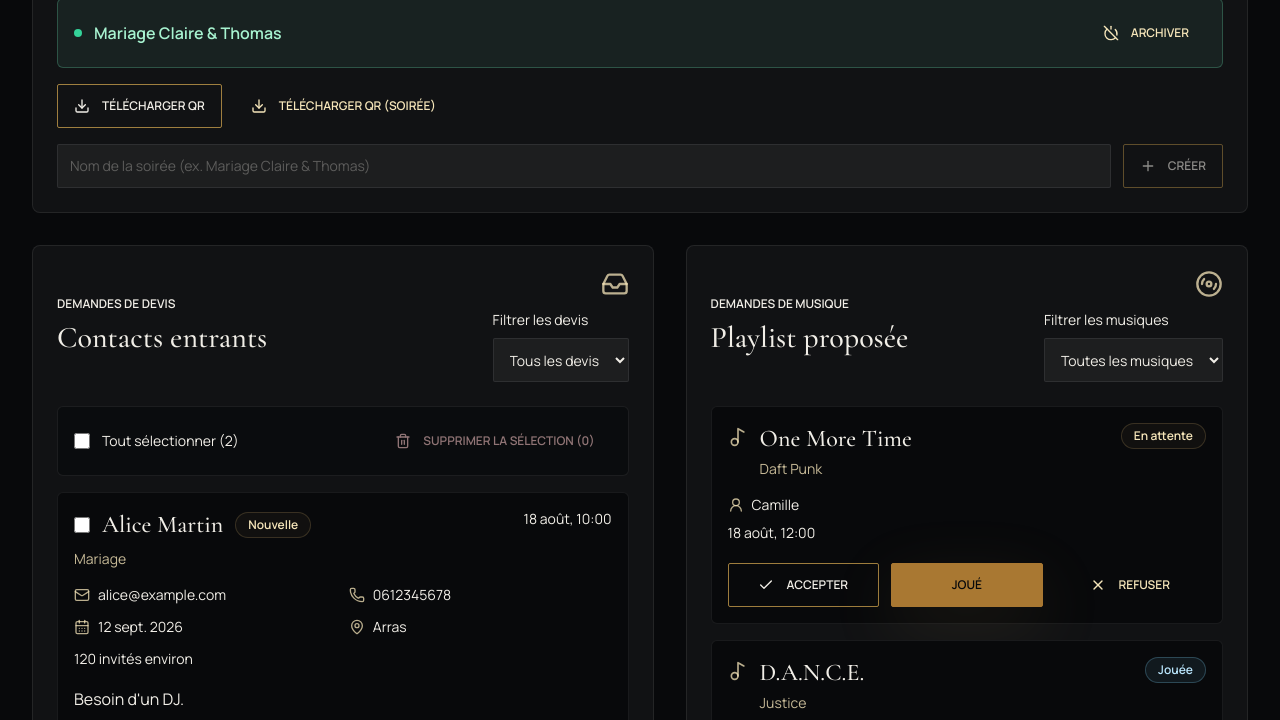
Scenario: AdminPage › filters music requests by status
(page scrolled)
Expected: the heading "One More Time" is shown, [760,423,912,455]
Expected: the heading "D.A.N.C.E." is shown, [760,657,864,689]
Select "Jouée" in the dropdown labelled "Filtrer les musiques": (1134, 360) [1044,338,1223,382]
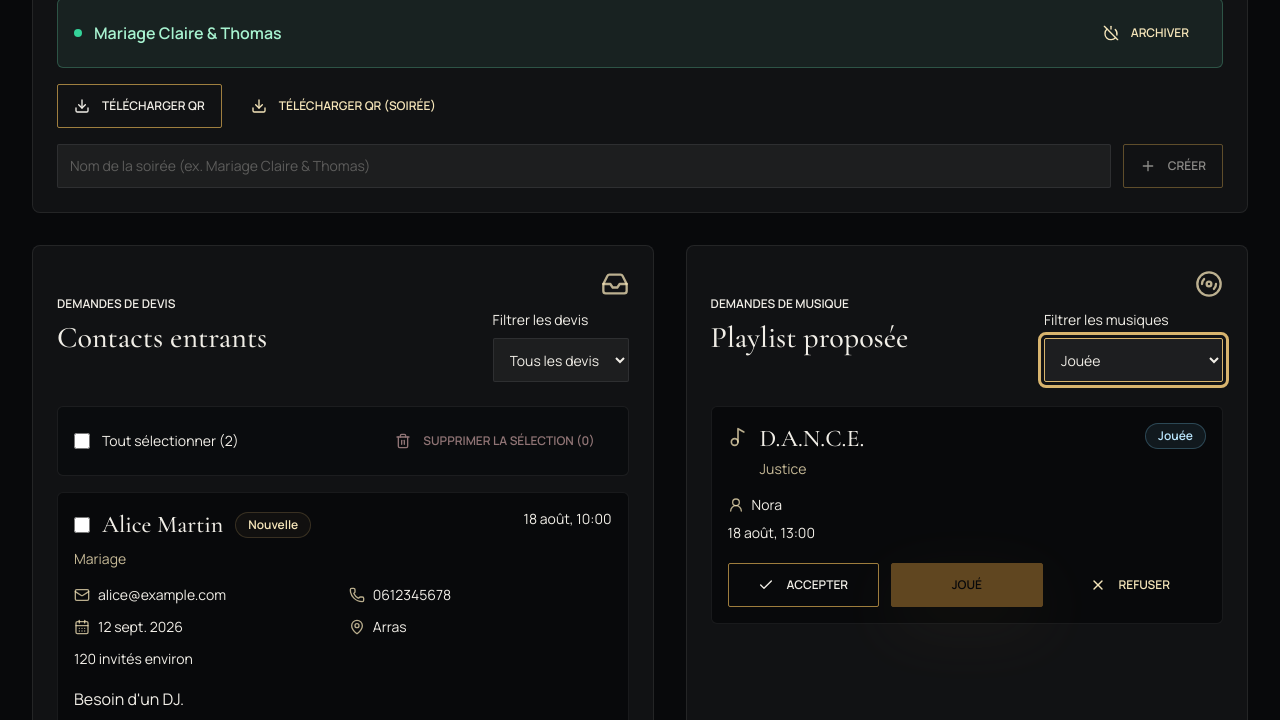
Expected: the heading "D.A.N.C.E." is shown, [760,423,864,455]
Expected: the heading "One More Time" is gone
